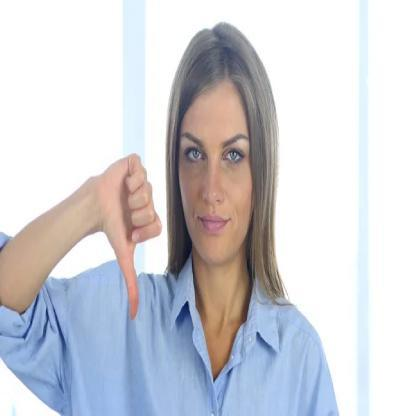thumb_down: (97, 148, 164, 324)
